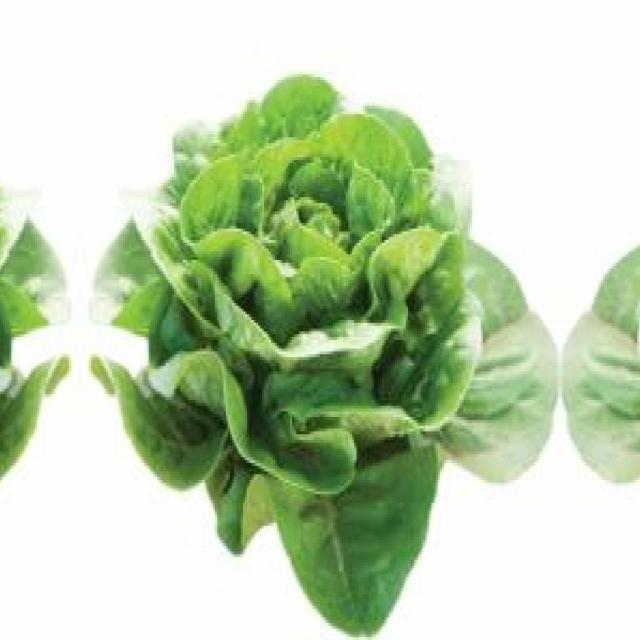healthy: (90, 68, 556, 636), (564, 68, 640, 636), (0, 68, 69, 636)
